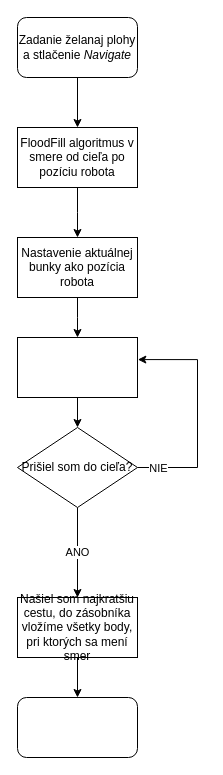
This 223x775 diagram has some shape labels left out. Each missing label, with the centre of its shape:
Prechádzam do sused. bunky s najnižšou hodnotou, bunku označím hodnotou 0: the point at 77,367
Začneme navigovať: the point at 77,727
